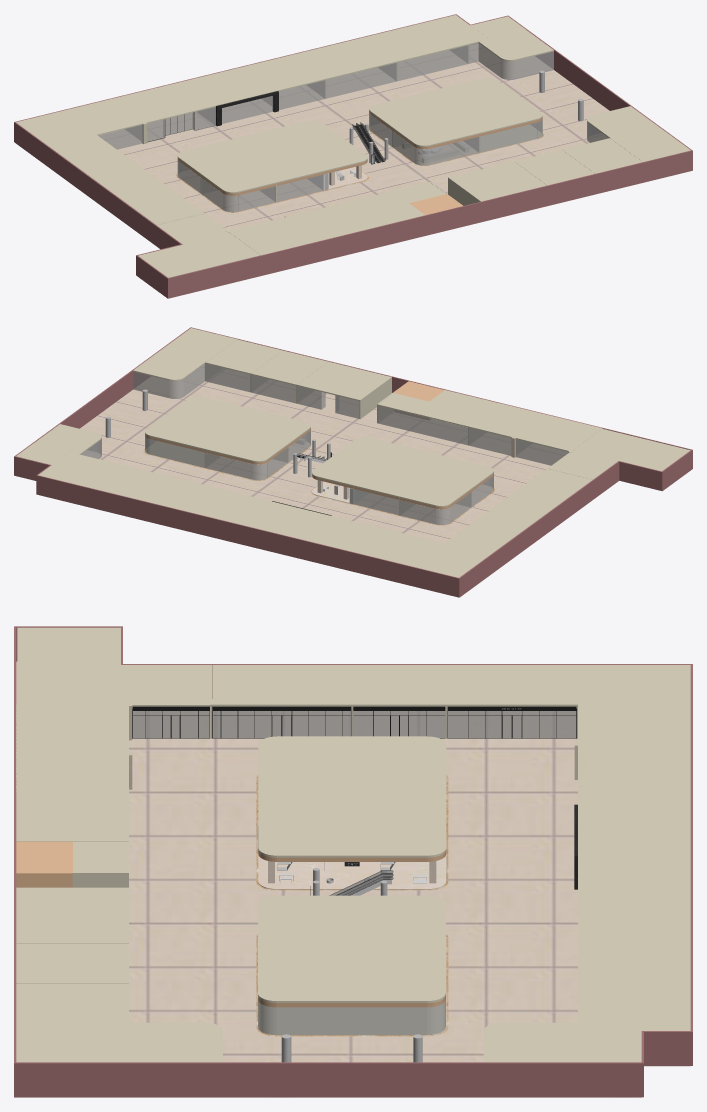
The model's file is mall.dae.
The picture shows the model from 3 angles, top to bottom: view 1: azimuth 30°, elevation 25°; view 2: azimuth 150°, elevation 25°; view 3: azimuth 270°, elevation 25°; orthographic projection. The views are drawn at different scales.
Visible parts, largest first — view 1: entrancestore4_roof002; view 2: entrancestore4_roof002; view 3: entrancestore4_roof002.
Part boxes in pixels (x1=…): entrancestore4_roof002: x1=14, y1=14, x2=692, y2=298; entrancestore4_roof002: x1=14, y1=327, x2=692, y2=597; entrancestore4_roof002: x1=14, y1=626, x2=692, y2=1097.
Bounding box in the file's own units: 110 × 72.24 × 4.39.
Materials: 27 (6 with a texture image).
